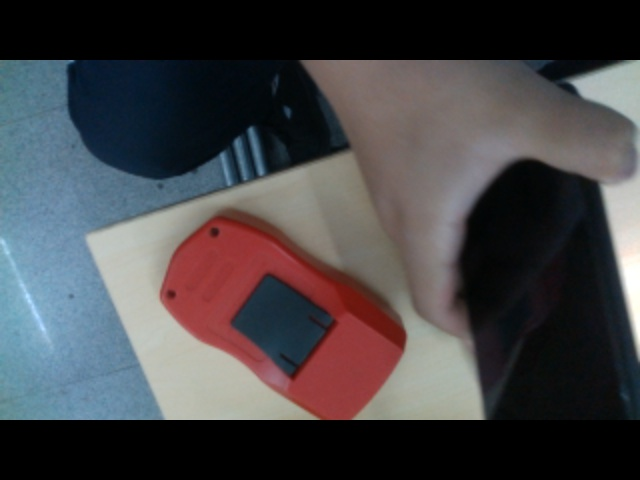Multimeter: (156, 208, 406, 420)
Screw holes: (207, 226, 221, 238), (164, 289, 178, 301)
